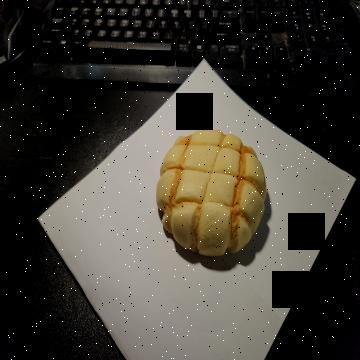melon_bread: (157, 130, 268, 252)
